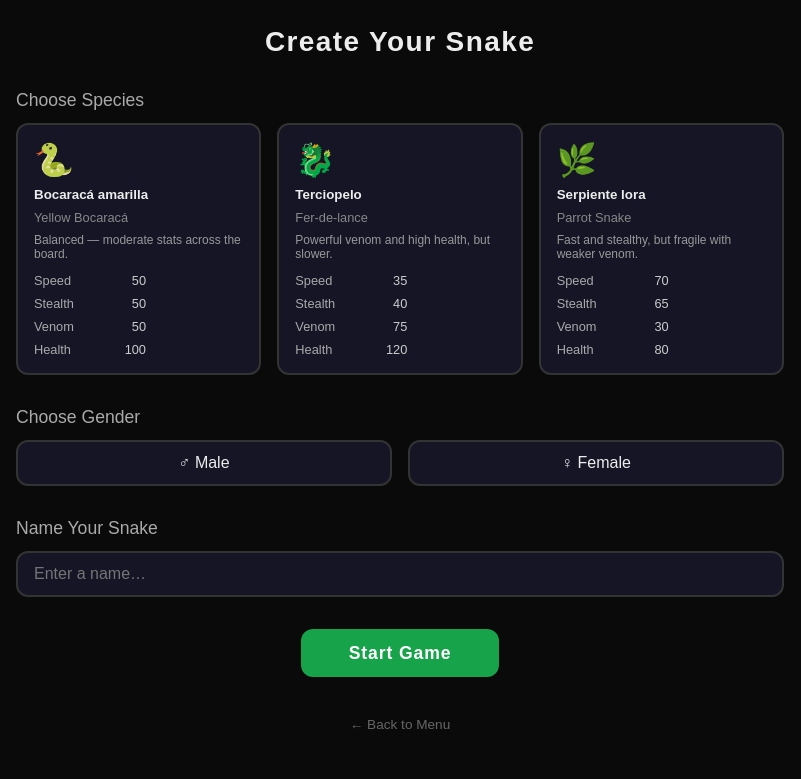
Test case: CharacterCreationPage › SC-2.2.2: Full creation flow › shows validation error when Start is clicked without selecting species
Only enter a name, skip species & gender
Type "Test" into the field labelled "Name Your Snake" at (400, 574), box x1=16 y1=551 x2=784 y2=597
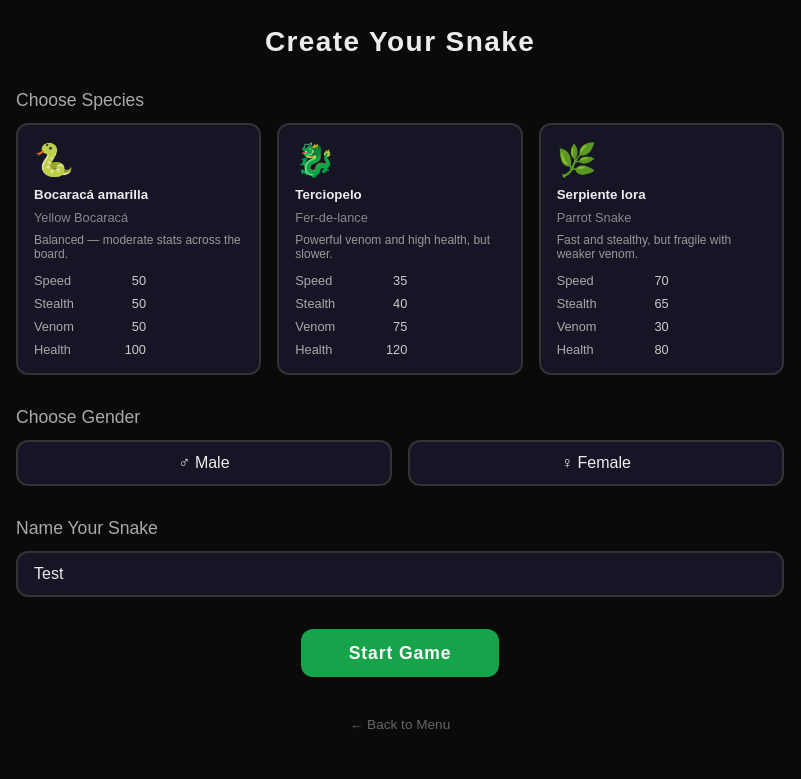
Click the button "Start Game" at (400, 653), box x1=301 y1=629 x2=499 y2=677
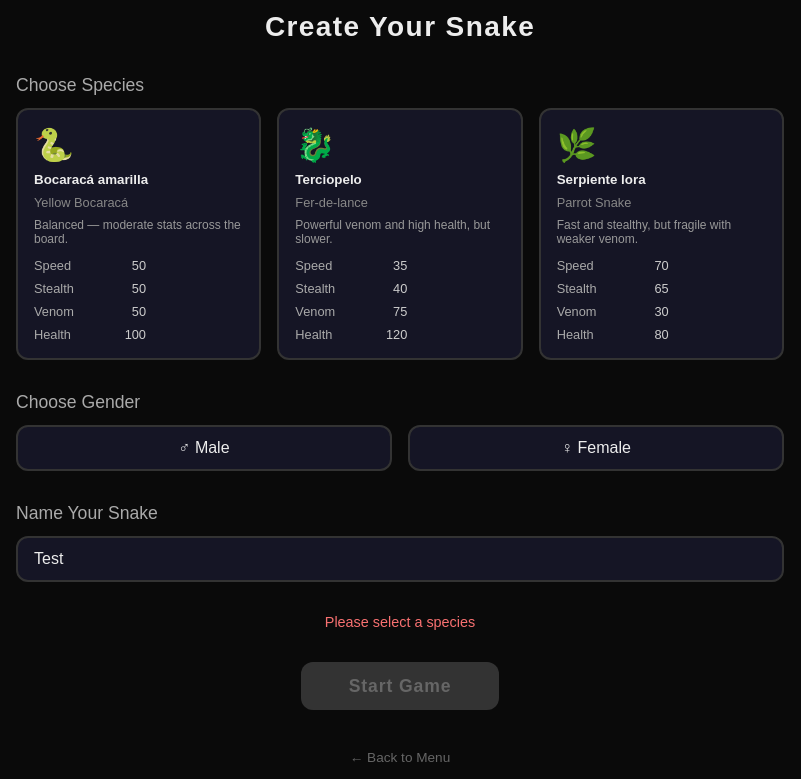
Expected: the text "Please select a species" is shown, x1=325 y1=614 x2=475 y2=630
